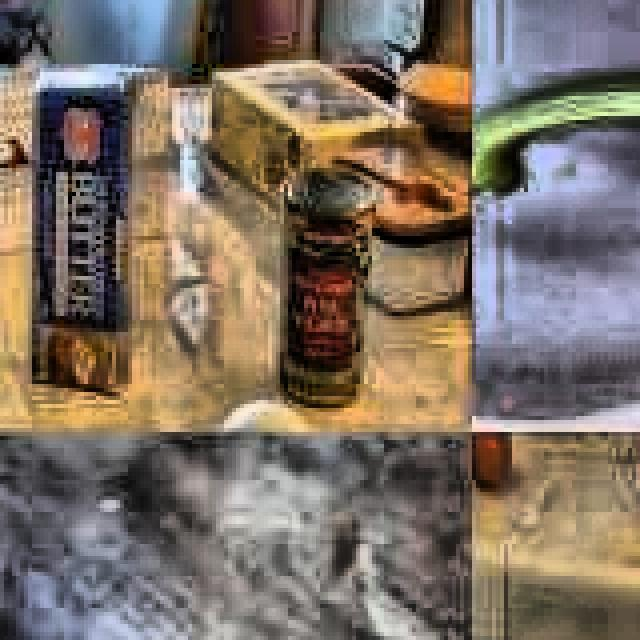bell_pepper: (472, 0, 640, 388)
egg: (472, 432, 520, 492)
